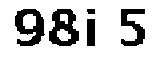5: (114, 6, 149, 50)
8: (48, 7, 81, 49)
9: (13, 7, 48, 48)
i: (84, 7, 99, 49)
